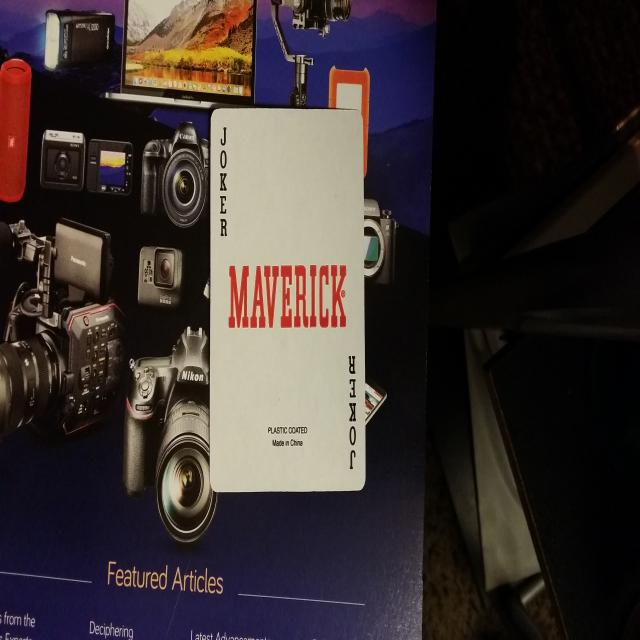J: (344, 350, 360, 480), (216, 119, 231, 248)
